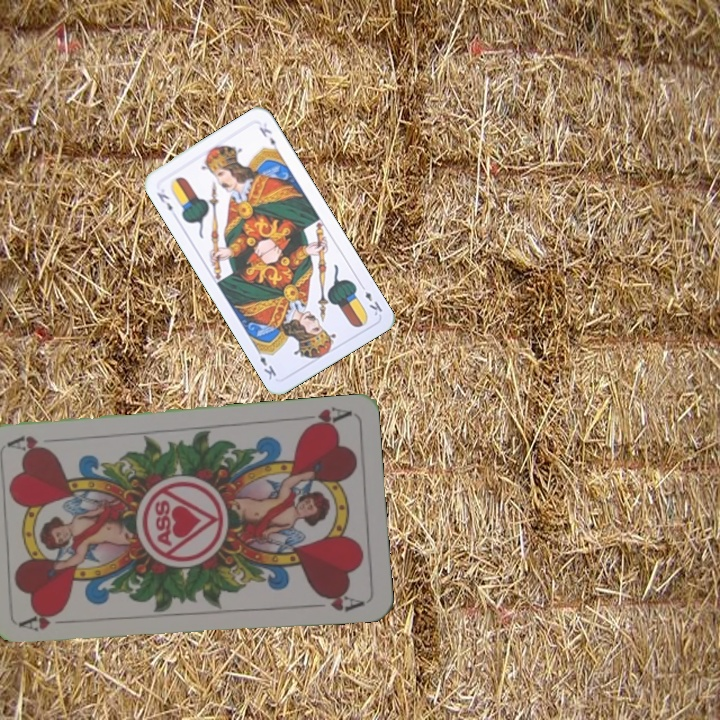EK: (356, 280, 385, 318), (153, 188, 175, 214)
HA: (294, 403, 353, 432), (19, 611, 78, 634)
